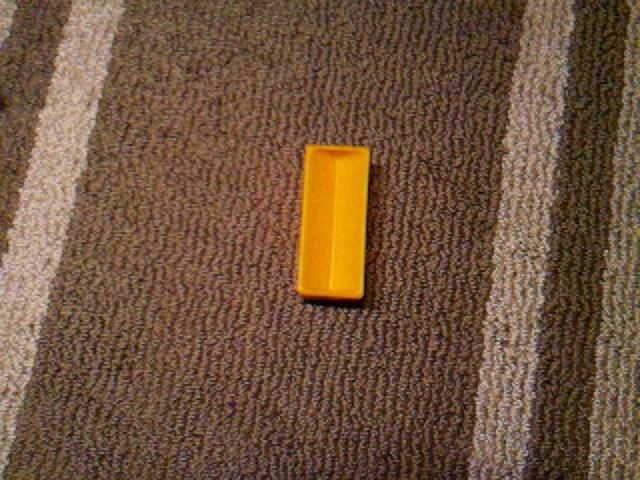yellow: (295, 144, 371, 303)
